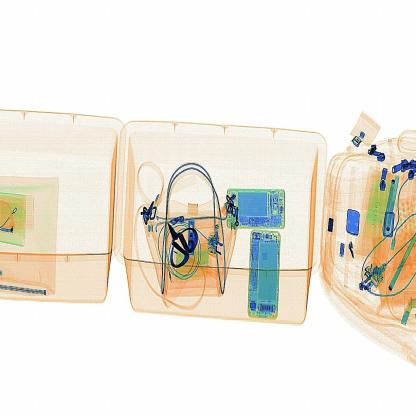gun: (161, 215, 207, 273)
